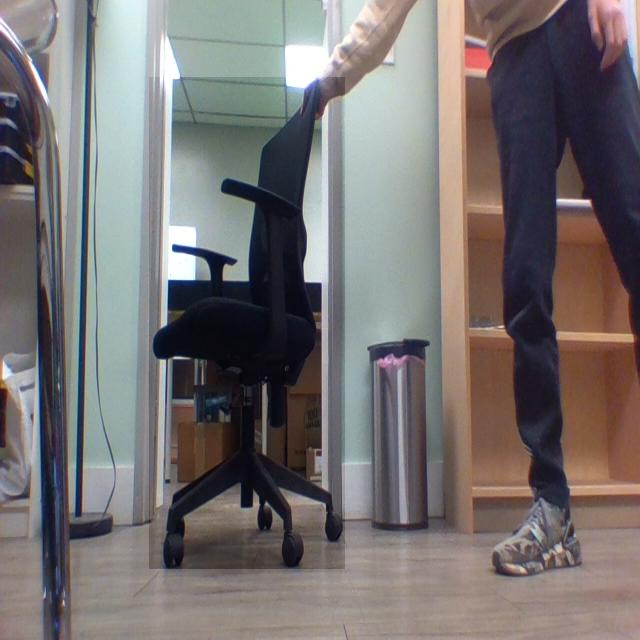black-chair: (149, 77, 346, 570)
